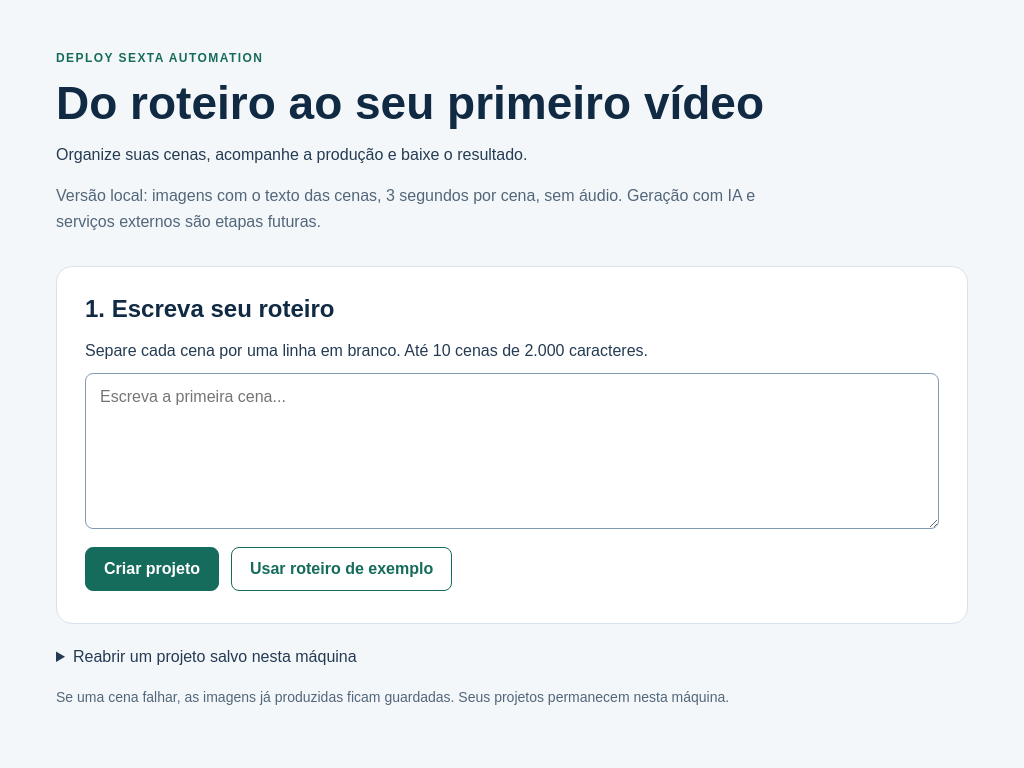
Test: CA-05 interface: exibe recusa do roteiro sem criar cenas
The width and height of the screenshot is (1024, 768).
Click the button "Criar projeto" at (152, 569), box [85,547,219,591]
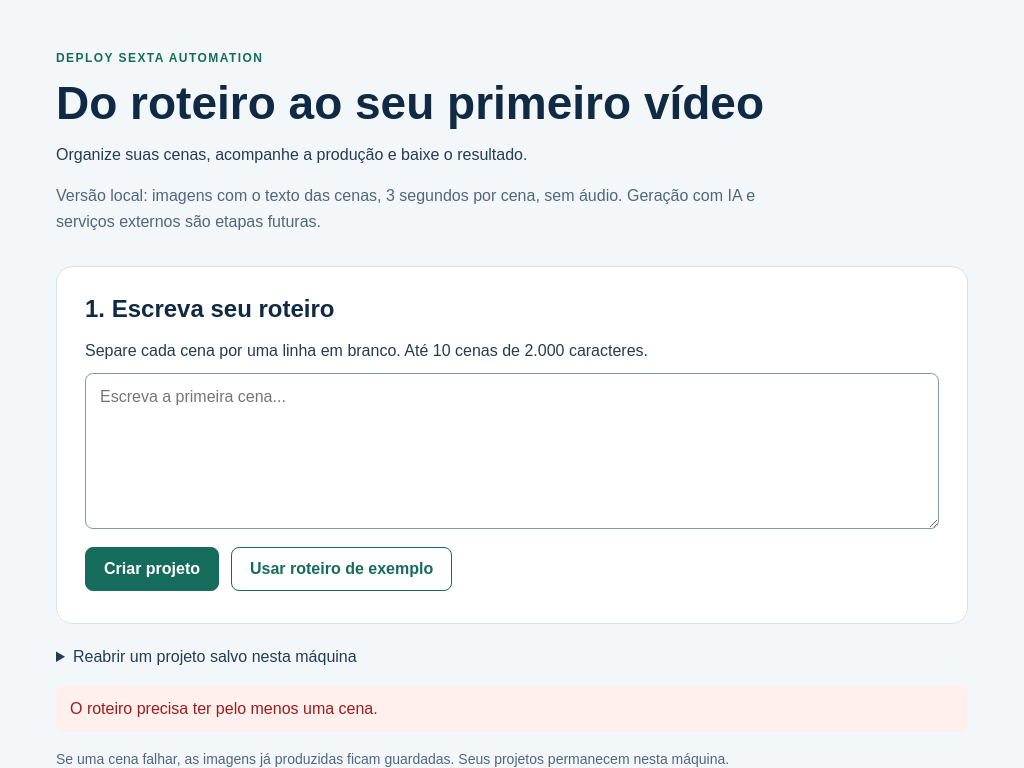
Now the message reads "O roteiro precisa ter pelo menos uma cena.", box [70,700,378,717]
